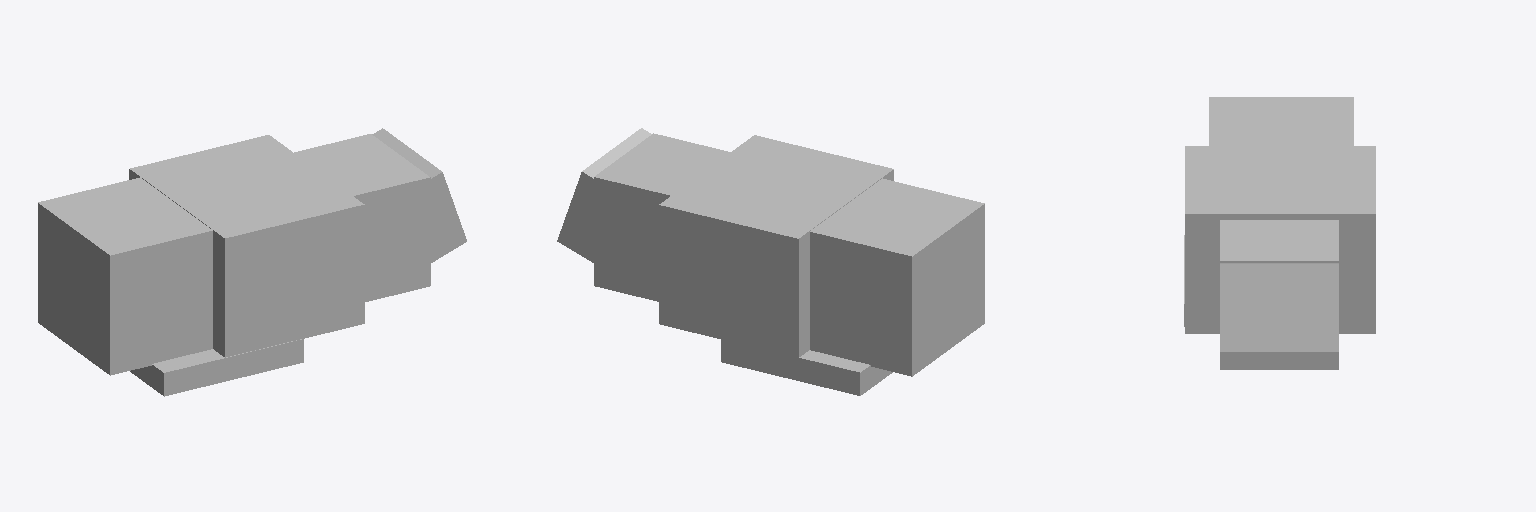
File: touch_sensor_thumb_base.obj
3 views of the same model, side by side, from view 1: azimuth 30°, elevation 25°; view 2: azimuth 150°, elevation 25°; view 3: azimuth 270°, elevation 25° (orthographic).
Parts seen in each view (by area): view 1: Cube.003; view 2: Cube.003; view 3: Cube.003.
Part boxes in pixels (x1,y1,x2,y2): Cube.003: (38,128,466,396); Cube.003: (557,128,984,395); Cube.003: (1184,97,1375,369).
Bounding box in the file's own units: 0.062 × 0.0233 × 0.0284.